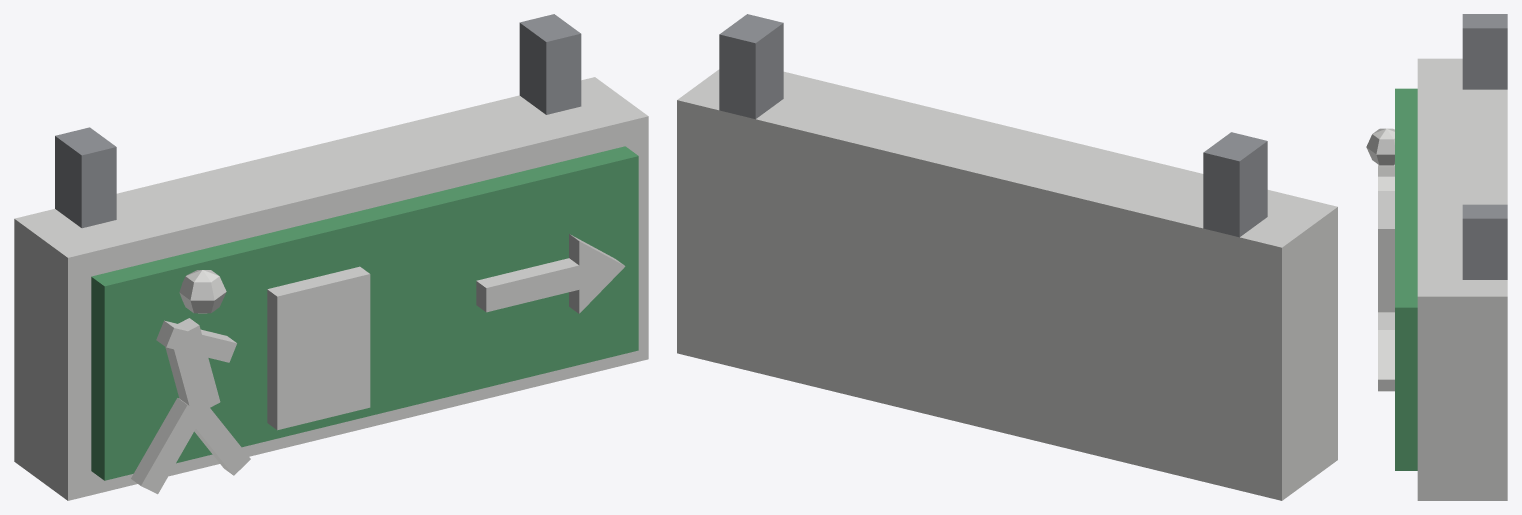
Rendered from HJ_CartelSalida.fbx.
The picture shows the model from 3 angles, left to right: view 1: azimuth 30°, elevation 25°; view 2: azimuth 150°, elevation 25°; view 3: azimuth 270°, elevation 25°; orthographic projection. The views are drawn at different scales.
Visible parts, largest first — view 1: HJ_CartelSalida; view 2: HJ_CartelSalida; view 3: HJ_CartelSalida.
Part boxes in pixels (bbox=[...]): HJ_CartelSalida: bbox=[14, 14, 648, 500]; HJ_CartelSalida: bbox=[677, 14, 1337, 500]; HJ_CartelSalida: bbox=[1366, 14, 1507, 500].
Size of the model in its own units: 0.5 by 0.26 by 0.1255.
